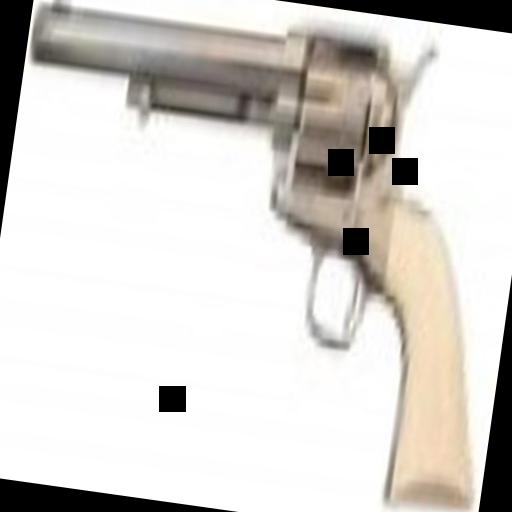Handgun: (0, 0, 512, 507)
